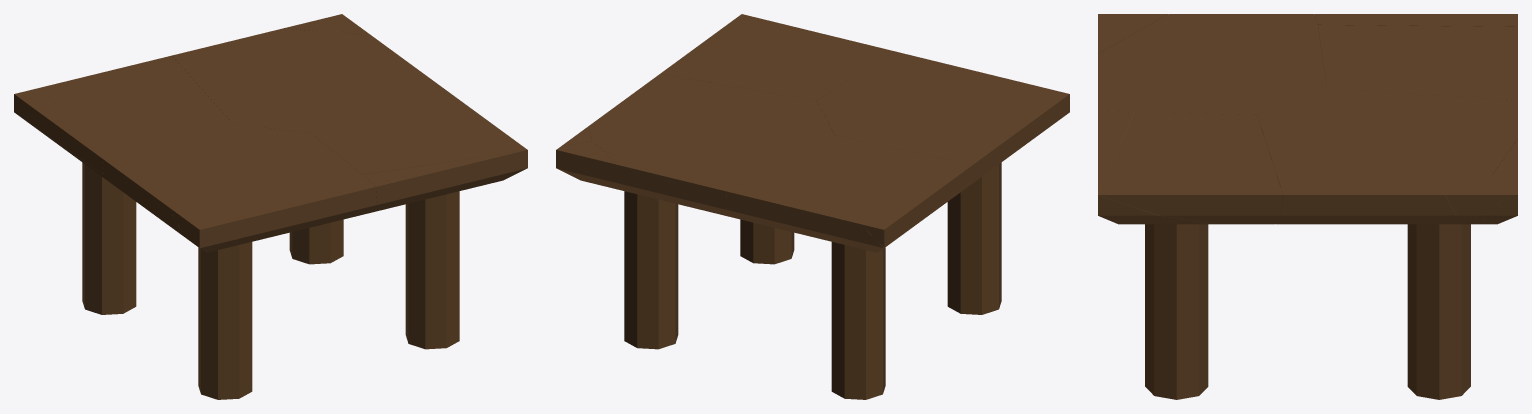
Rendered from table5-parts.fbx.
3 views of the same model, side by side, from view 1: azimuth 30°, elevation 25°; view 2: azimuth 150°, elevation 25°; view 3: azimuth 270°, elevation 25° (orthographic). The views are drawn at different scales.
Visible parts, largest first — view 1: table5_cell, table5_cell.004, table5_cell.009, table5_cell.007, leg2, leg1, leg4, table5_cell.006, table5_cell.003, table5_cell.001, leg3, table5_cell.008; view 2: table5_cell.004, table5_cell, table5_cell.009, table5_cell.007, leg4, leg3, leg2, table5_cell.008, table5_cell.003, leg1, table5_cell.001, table5_cell.006; view 3: table5_cell.004, table5_cell, table5_cell.007, table5_cell.009, leg1, leg3, table5_cell.008, table5_cell.006, table5_cell.003, table5_cell.001.
Part boxes in pixels (left/top/right/bottom): table5_cell: left=103, top=123, right=376, bottom=252; table5_cell.004: left=172, top=31, right=445, bottom=133; table5_cell.009: left=17, top=55, right=231, bottom=176; table5_cell.007: left=313, top=90, right=527, bottom=174; leg2: left=198, top=242, right=252, bottom=399; leg1: left=405, top=191, right=459, bottom=349; leg4: left=82, top=162, right=136, bottom=314; table5_cell.006: left=362, top=150, right=527, bottom=212; table5_cell.003: left=14, top=88, right=121, bottom=173; table5_cell.001: left=169, top=207, right=271, bottom=250; leg3: left=289, top=219, right=343, bottom=264; table5_cell.008: left=240, top=14, right=373, bottom=38; table5_cell.004: left=588, top=74, right=834, bottom=218; table5_cell: left=817, top=51, right=1053, bottom=182; table5_cell.009: left=726, top=135, right=972, bottom=252; table5_cell.007: left=660, top=14, right=874, bottom=100; leg4: left=831, top=242, right=885, bottom=399; leg3: left=624, top=191, right=678, bottom=349; leg2: left=947, top=162, right=1001, bottom=314; table5_cell.008: left=556, top=126, right=697, bottom=206; table5_cell.003: left=861, top=160, right=973, bottom=247; leg1: left=740, top=219, right=794, bottom=264; table5_cell.001: left=998, top=76, right=1069, bottom=123; table5_cell.006: left=743, top=14, right=893, bottom=62; table5_cell.004: left=1257, top=88, right=1517, bottom=224; table5_cell: left=1098, top=14, right=1326, bottom=114; table5_cell.007: left=1098, top=112, right=1283, bottom=224; table5_cell.009: left=1318, top=25, right=1517, bottom=100; leg1: left=1145, top=224, right=1208, bottom=399; leg3: left=1407, top=224, right=1470, bottom=399; table5_cell.008: left=1445, top=139, right=1517, bottom=224; table5_cell.006: left=1098, top=111, right=1213, bottom=224; table5_cell.003: left=1315, top=14, right=1517, bottom=26; table5_cell.001: left=1098, top=14, right=1167, bottom=53.
Bounding box in the file's own units: 617 × 357 × 605.
